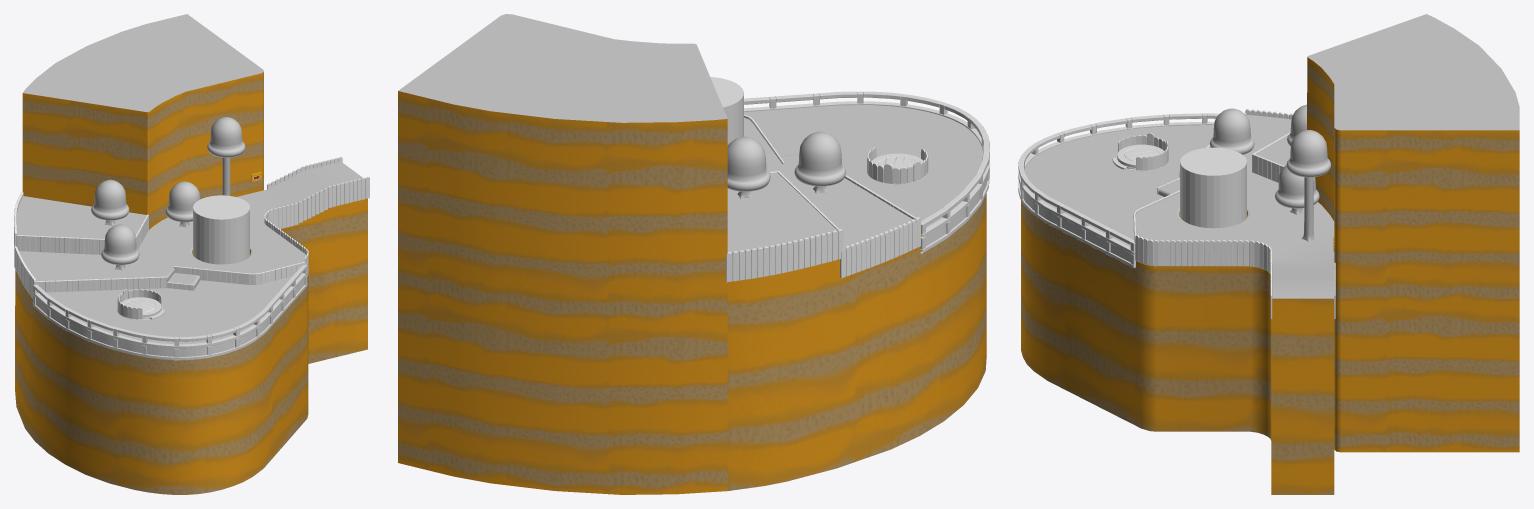
File: Blockout2.fbx
3 renders of one model, left to right at view 1: azimuth 30°, elevation 25°; view 2: azimuth 150°, elevation 25°; view 3: azimuth 270°, elevation 25°, orthographic. The views are drawn at different scales.
Visible parts, largest first — view 1: Circle.004, Circle.018, Cube, Cylinder, Cube.002, Cube.004, Cube.001, Circle, Circle.002, Circle.007, Circle.005, Circle.012 (+5 smaller); view 2: Circle.004, Circle.018, Cube, Circle.009, Circle.010, Circle.007, Circle, Cylinder, Circle.029; view 3: Circle.004, Circle.018, Cube, Cylinder, Circle.012, Circle.002, Circle.007, Circle.005, Circle.029, Circle.003, Cube.005.
Boxes of the visible parts, <box> form: Circle.004: <box>15,72,367,494</box>; Circle.018: <box>16,14,362,344</box>; Cube: <box>33,264,307,360</box>; Cylinder: <box>193,195,249,264</box>; Cube.002: <box>34,276,166,292</box>; Cube.004: <box>16,235,104,254</box>; Cube.001: <box>173,261,305,284</box>; Circle: <box>91,179,129,220</box>; Circle.002: <box>207,117,245,157</box>; Circle.007: <box>101,224,139,264</box>; Circle.005: <box>165,181,200,222</box>; Circle.012: <box>264,203,308,276</box>; Circle.004: <box>398,91,986,494</box>; Circle.018: <box>398,14,982,253</box>; Cube: <box>744,91,989,253</box>; Circle.009: <box>726,229,843,282</box>; Circle.010: <box>840,217,920,278</box>; Circle.007: <box>794,131,846,186</box>; Circle: <box>727,136,770,191</box>; Cylinder: <box>710,77,743,145</box>; Circle.029: <box>867,147,928,183</box>; Circle.004: <box>1021,57,1519,494</box>; Circle.018: <box>1024,14,1519,298</box>; Cube: <box>1018,113,1219,267</box>; Cylinder: <box>1180,147,1246,228</box>; Circle.012: <box>1135,235,1271,274</box>; Circle.002: <box>1286,130,1331,177</box>; Circle.007: <box>1209,108,1254,154</box>; Circle.005: <box>1275,165,1319,208</box>; Circle.029: <box>1118,132,1168,170</box>; Circle.003: <box>1301,177,1315,241</box>; Cube.005: <box>1253,154,1284,182</box>.
Size of the model in its own units: 6592 by 4963 by 7001.
